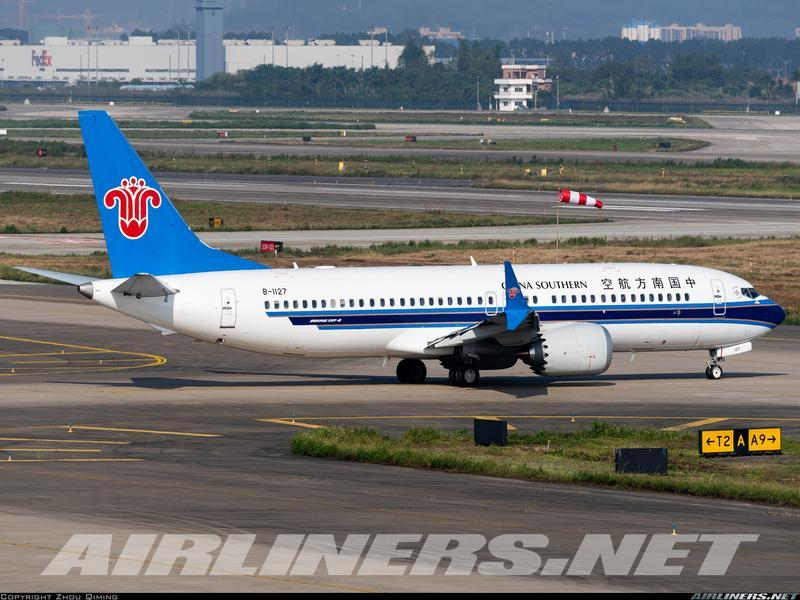737-MAX: (11, 108, 795, 392)
